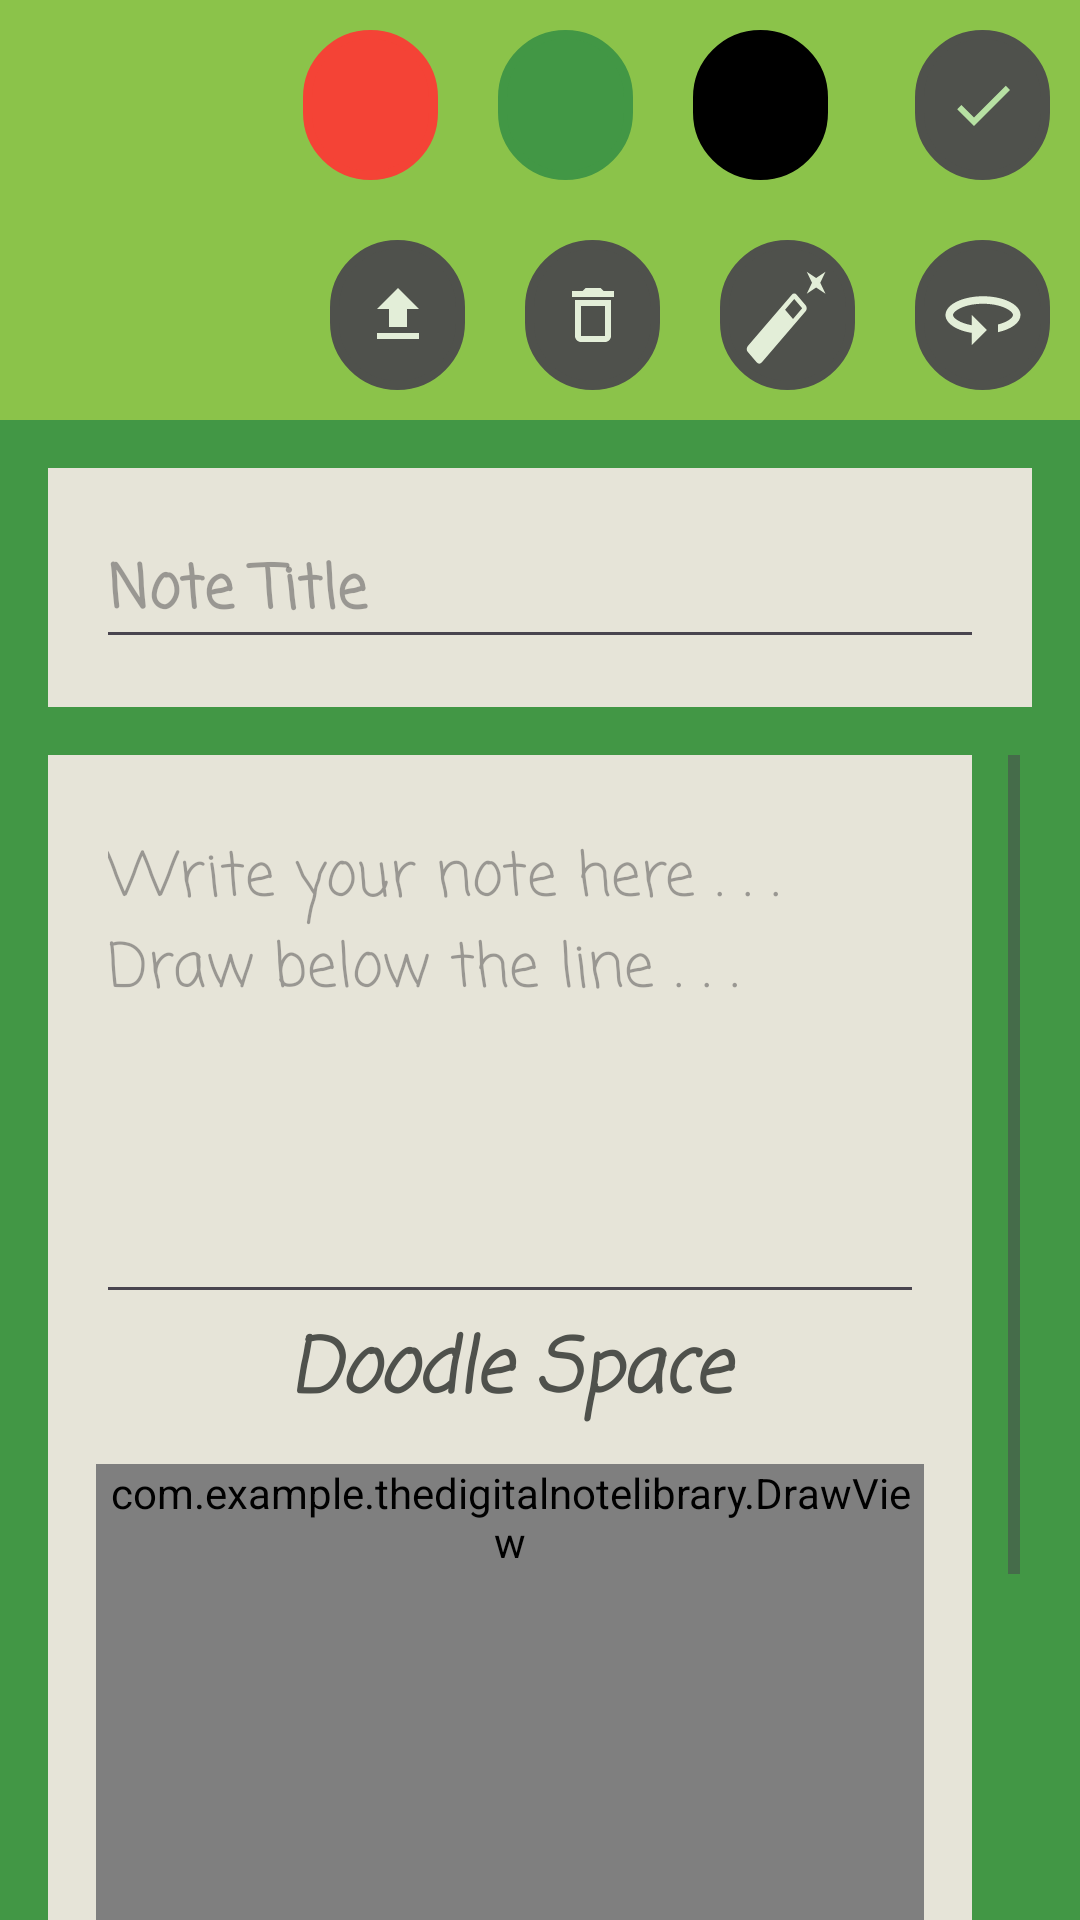

Icons on this 1080w x 1920h Android screen, each with the point to tap as point (x, y):
delete: point (592, 315)
done: point (982, 105)
file upload: point (397, 315)
